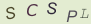C: (26, 3, 40, 18)
L: (80, 7, 90, 19)
P: (65, 9, 79, 24)
S: (46, 1, 58, 15), (5, 6, 16, 20)
